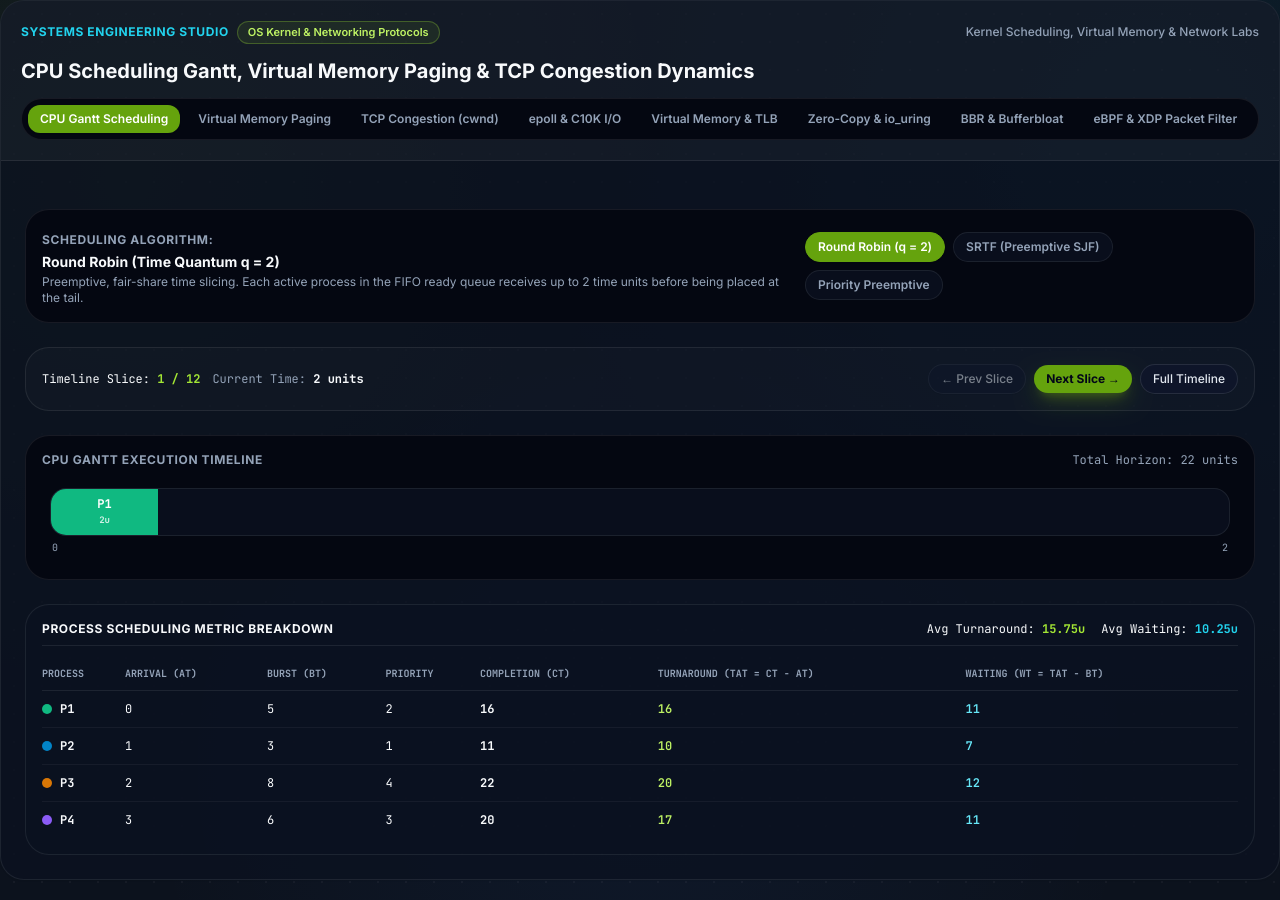
Test: KernelNetworkSandbox › switches to TCP Congestion Control and tests Reno vs Tahoe dynamics and round stepping
Click the button "TCP Congestion (cwnd)" at (430, 118), box [349,104,511,132]
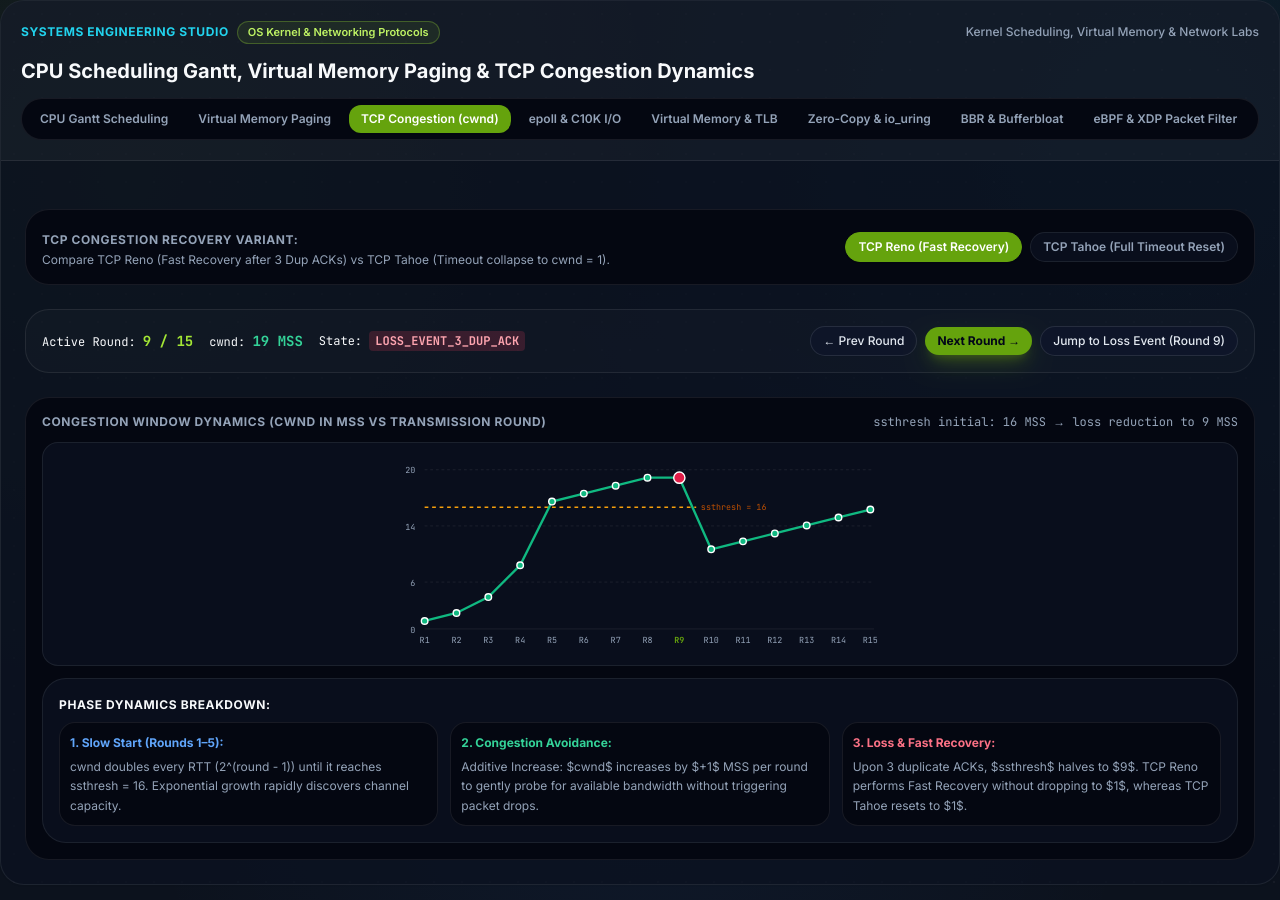
Expected: the text "Congestion Window Dynamics" is shown, [42,414,546,428]
Expected: the text "Active Round: 9 / 15" is shown, [42,330,193,350]
Expected: the text "9 / 15" is shown, [143,332,193,350]
// Step forward to round 10
Click the button "Next Round →" at (979, 340), box [925,326,1032,354]
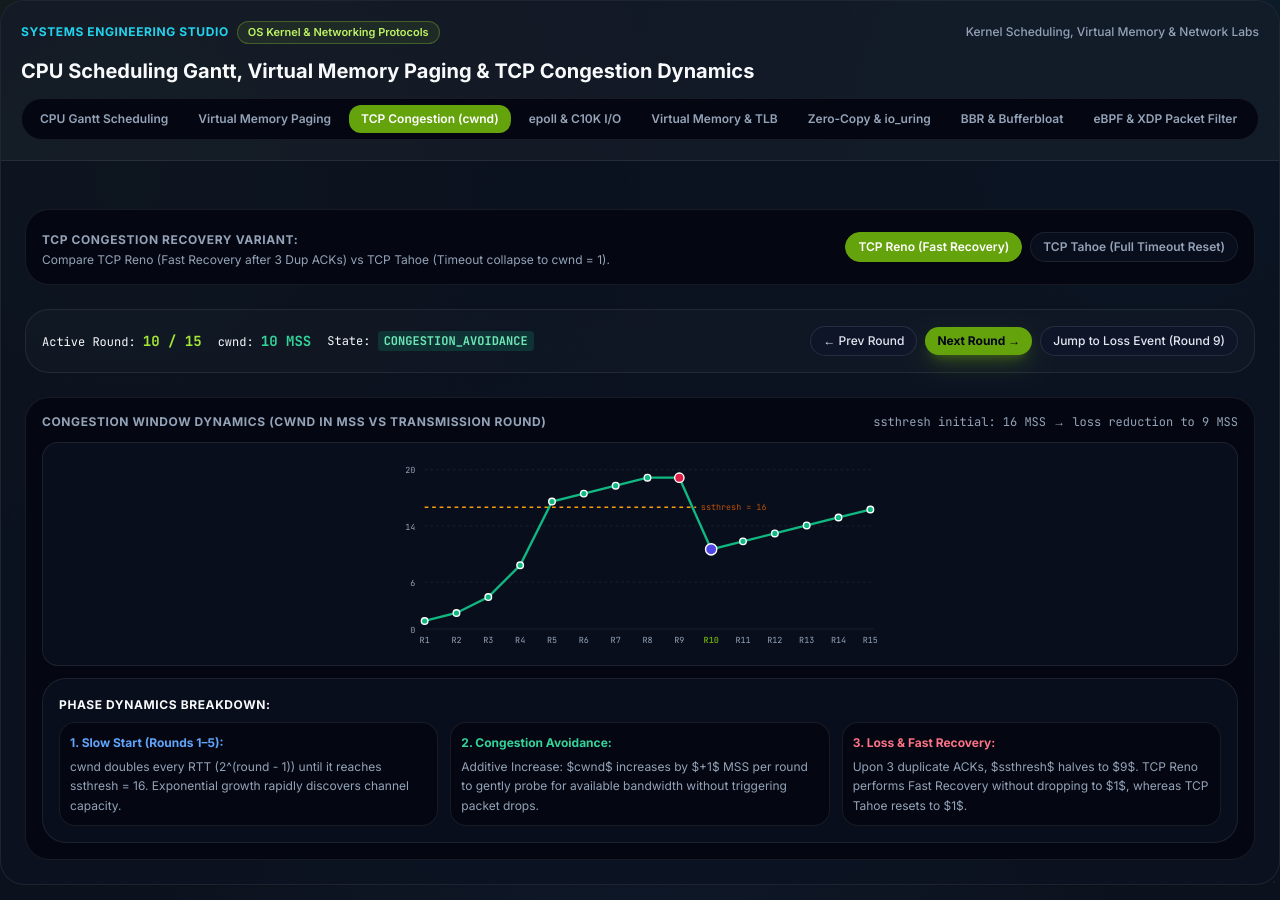
Expected: the text "10 / 15" is shown, [143,332,202,350]
Expected: the text "10 MSS" is shown, [261,332,311,350]
// Switch to TCP Tahoe
Click the button "TCP Tahoe (Full Timeout Reset)" at (1134, 246), box [1030,232,1238,262]
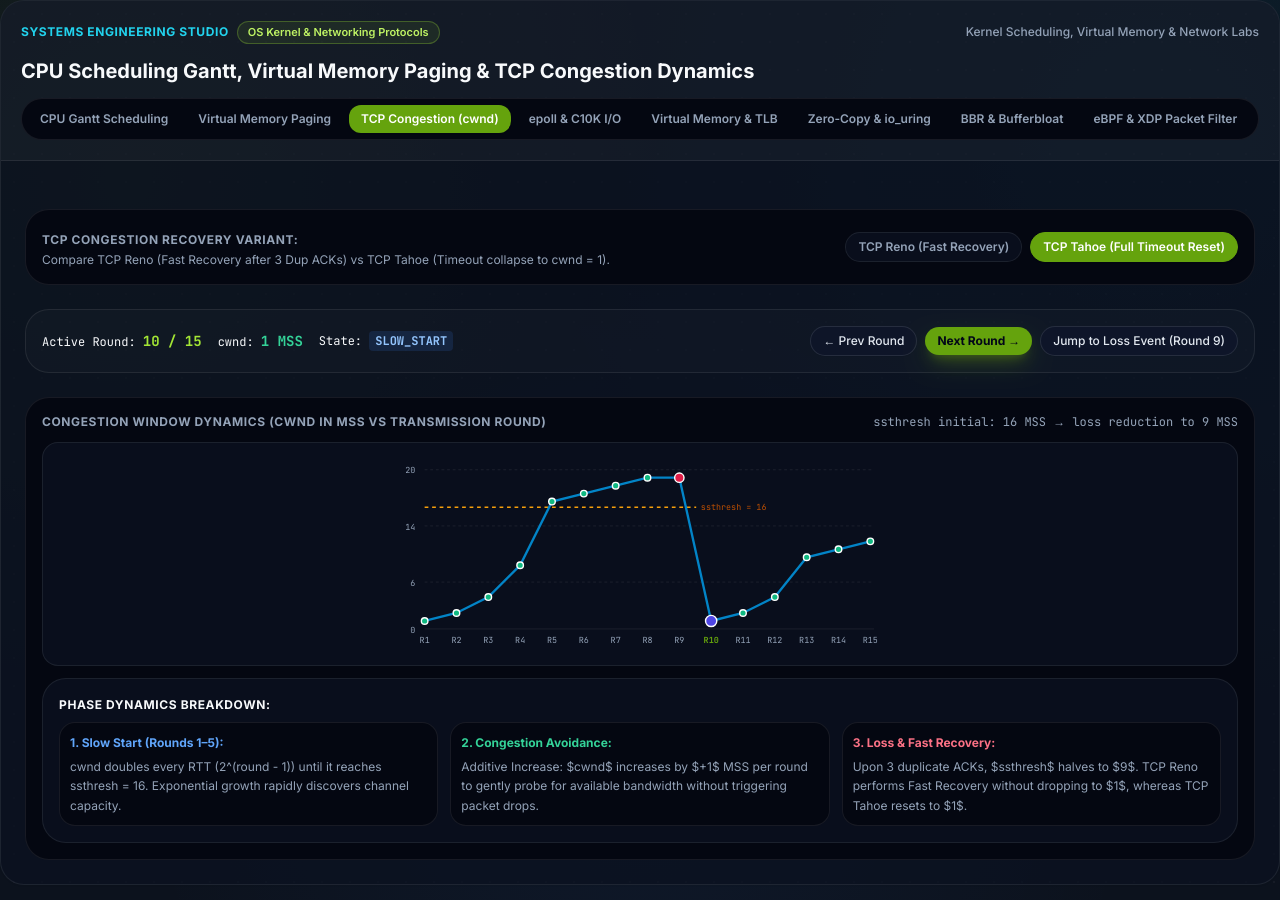
Expected: the text "1 MSS" is shown, [261,332,303,350]
